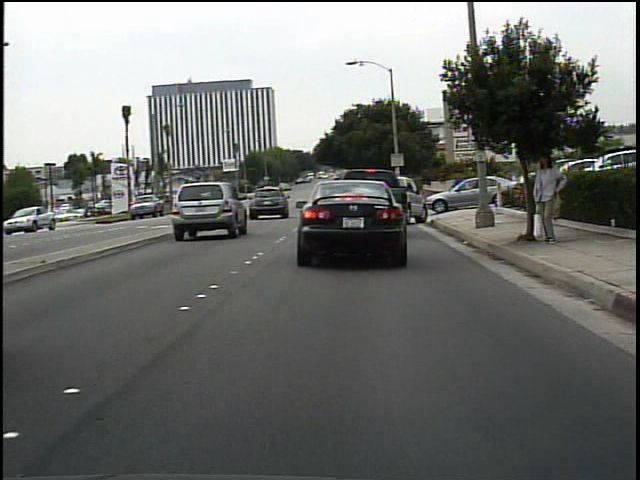person: (530, 148, 570, 248)
